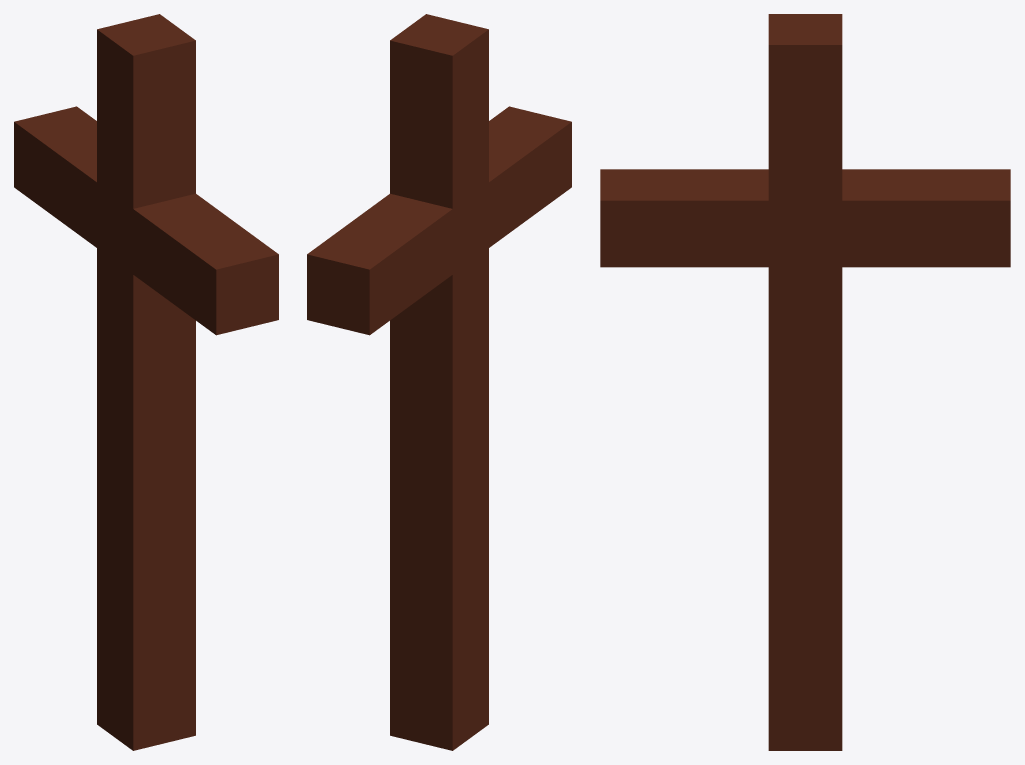
Rendered from cross.fbx.
3 renders of one model, left to right at view 1: azimuth 30°, elevation 25°; view 2: azimuth 150°, elevation 25°; view 3: azimuth 270°, elevation 25°, orthographic.
Parts seen in each view (by area): view 1: Cube; view 2: Cube; view 3: Cube.
Boxes of the visible parts, left/top/right/bottom form: Cube: left=14, top=14, right=278, bottom=750; Cube: left=307, top=14, right=571, bottom=750; Cube: left=600, top=14, right=1010, bottom=750.
Bounding box in the file's own units: 52.06 × 551 × 290.
